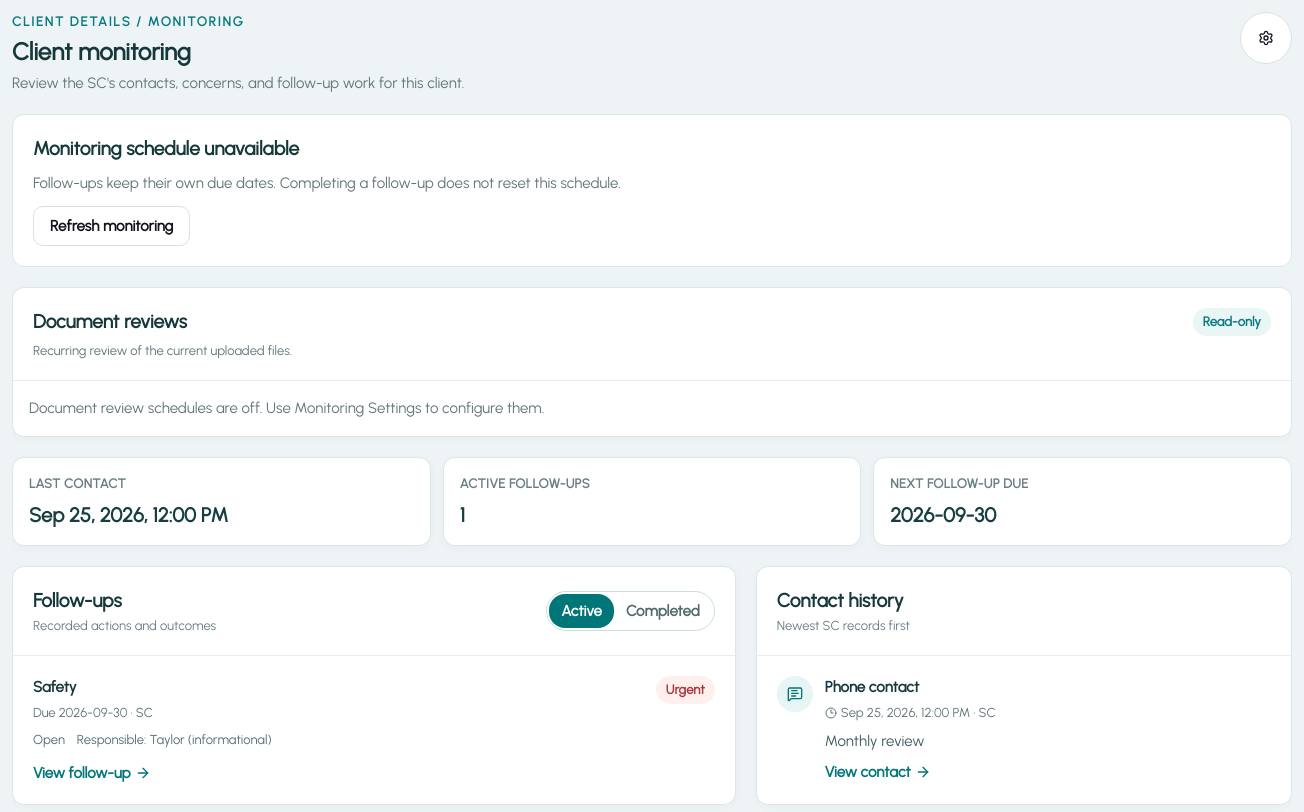
Test: shows persisted records without the sample calendar and loads completed only on selection
Expected: the heading "Client monitoring" is shown, x1=12 y1=36 x2=191 y2=66
Expected: the button named "Monitoring Settings" is enabled, x1=1240 y1=12 x2=1292 y2=64
Click the button "Completed" at {"x": 663, "y": 611}, box x1=614 y1=594 x2=712 y2=628
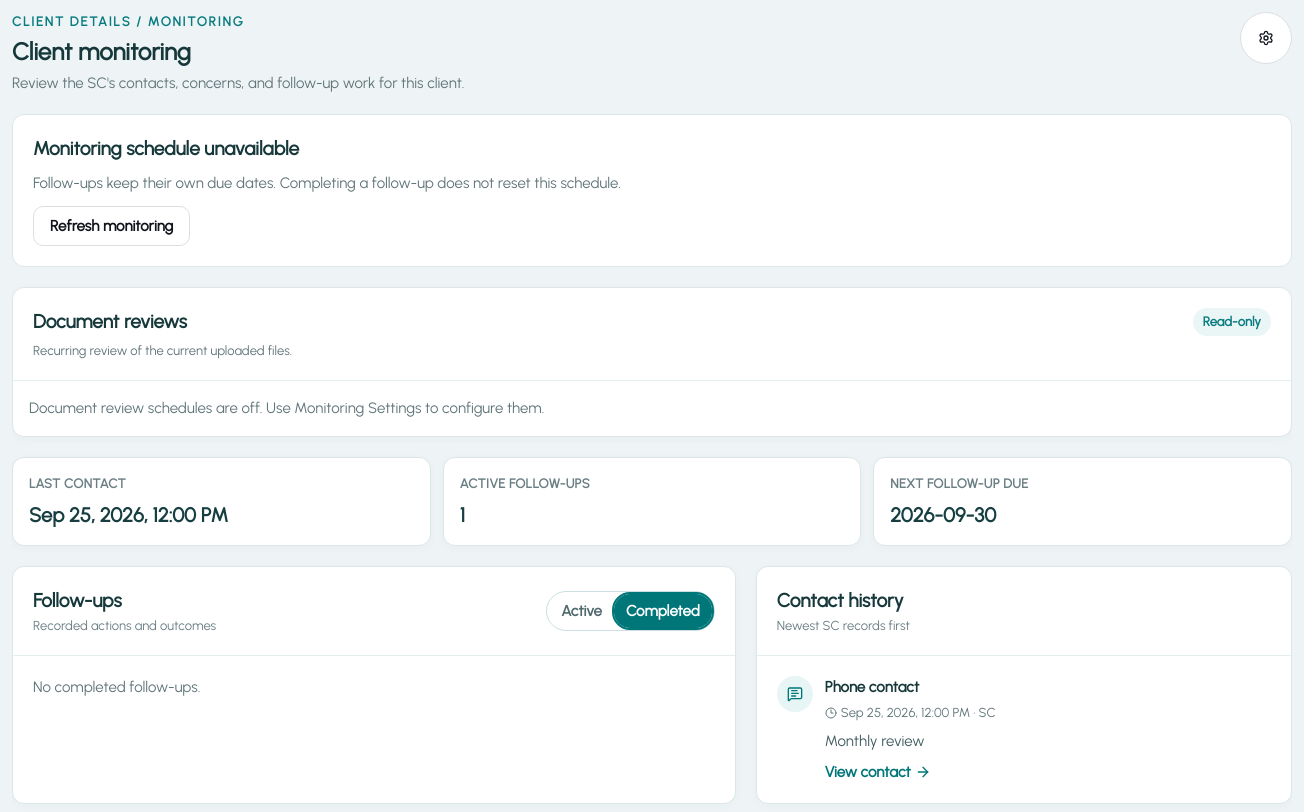
Result: the text "No completed follow-ups." is shown at x1=33 y1=678 x2=200 y2=696
